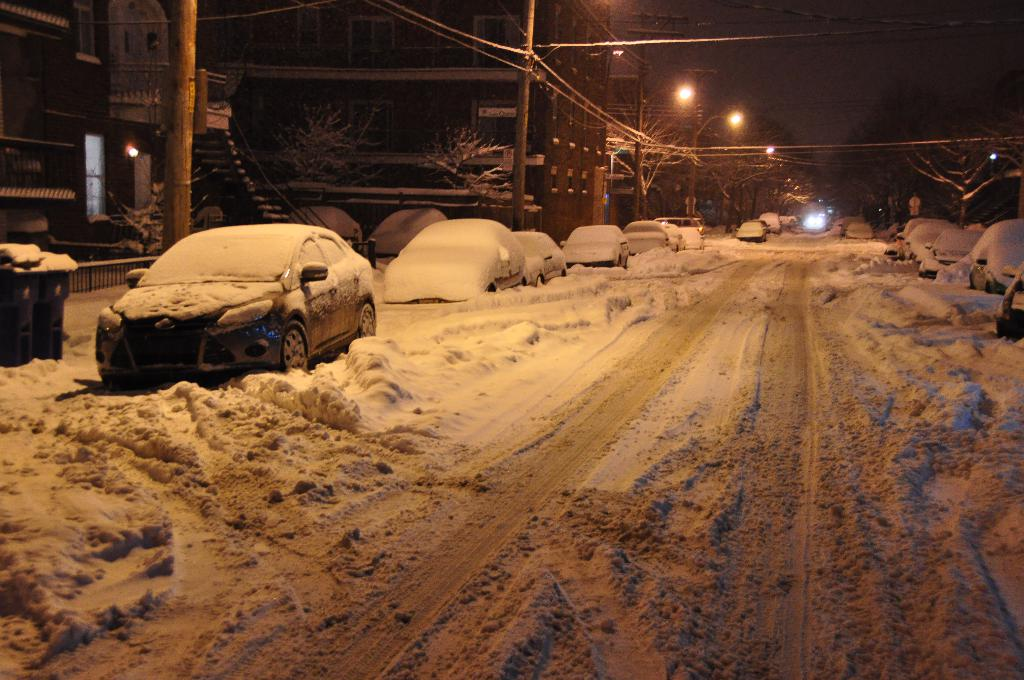mobil: (97, 225, 375, 373)
